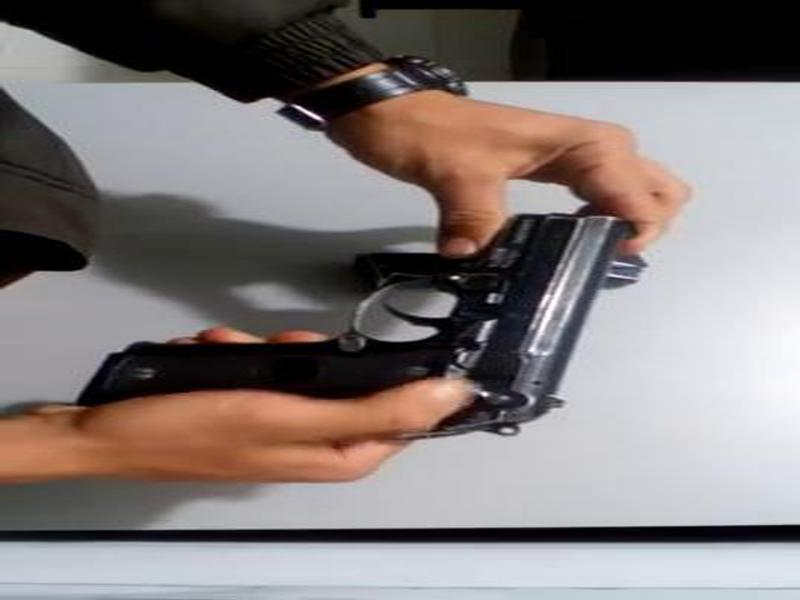Pistola: (87, 200, 655, 456)
